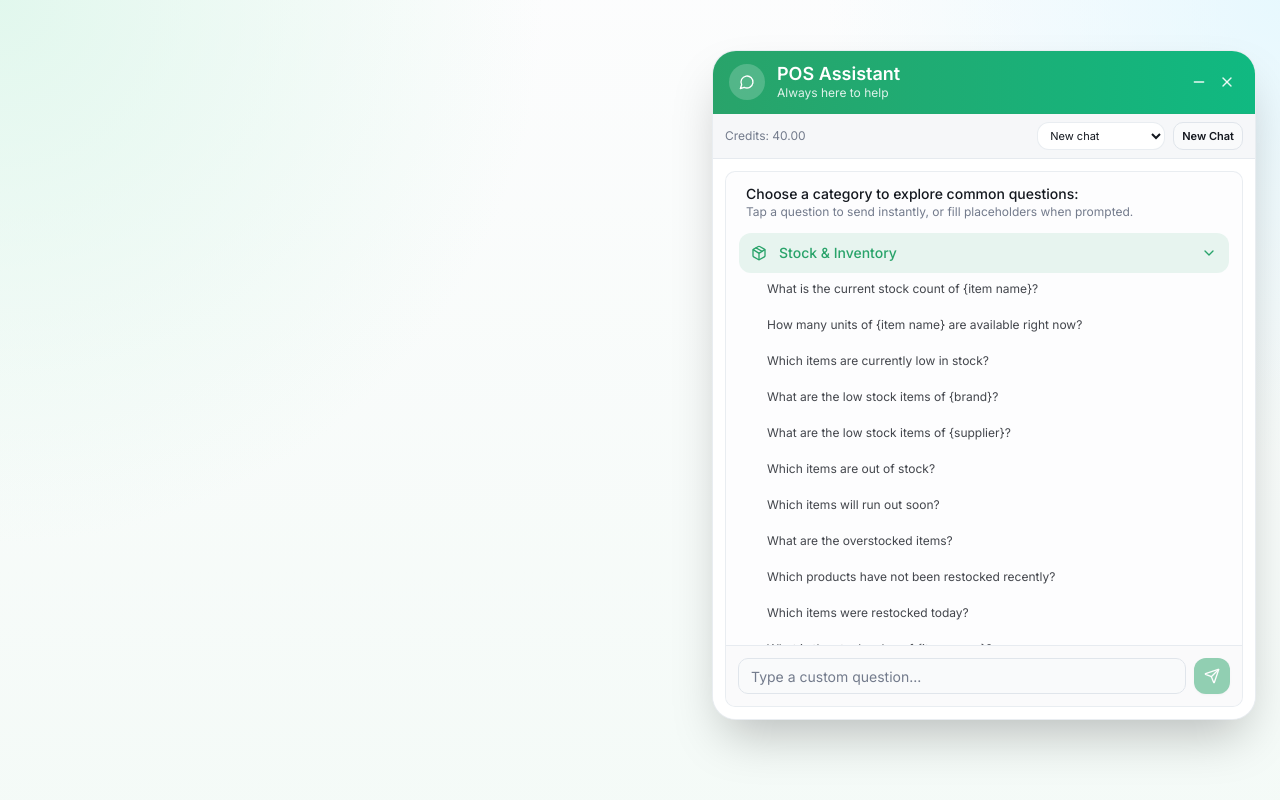
Test case: AiInsightsDialog › loads an existing session when the user selects it from history
The width and height of the screenshot is (1280, 800).
Select "Saved stock chat" in the dropdown at (1101, 136), box [1037,122,1165,150]
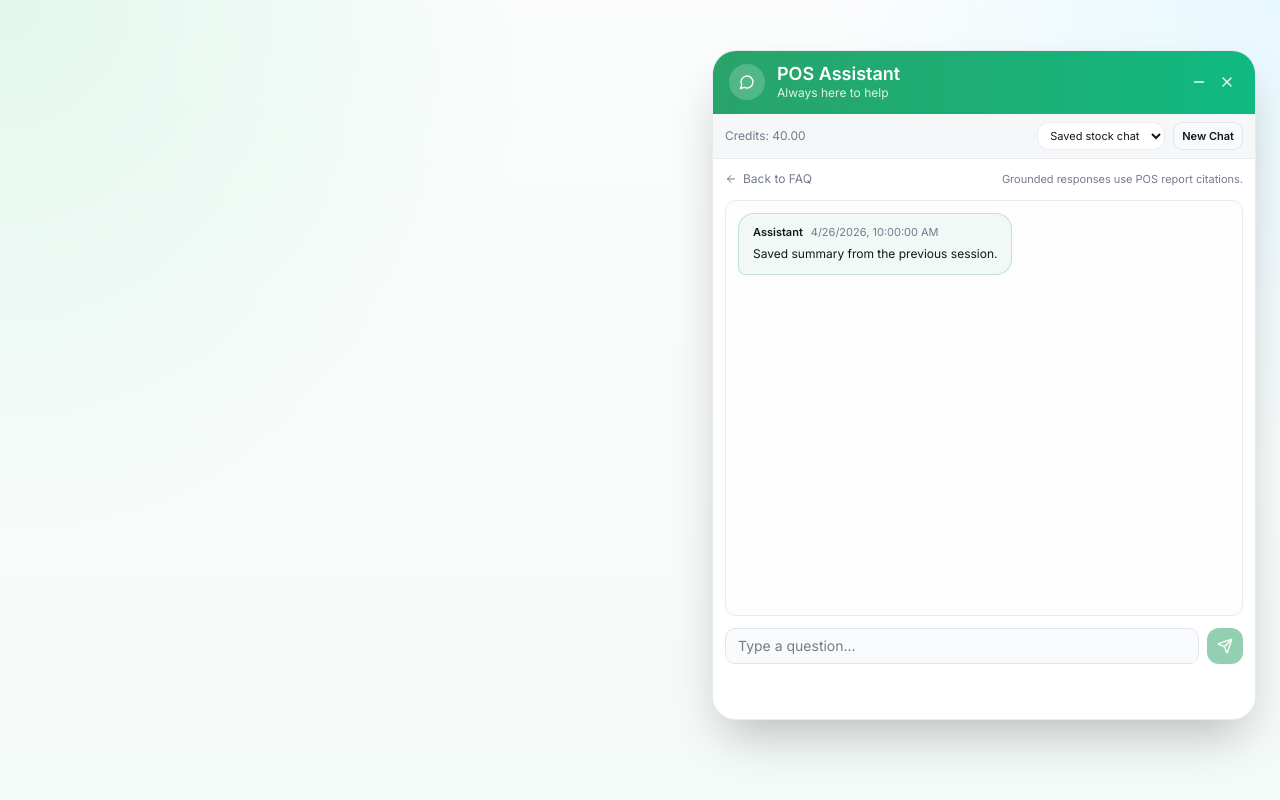
Result: the text "Saved summary from the previous session." is shown at [753,244,998,264]
